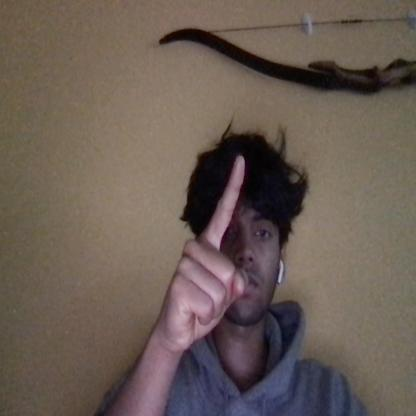finger_point: (222, 139, 255, 187)
